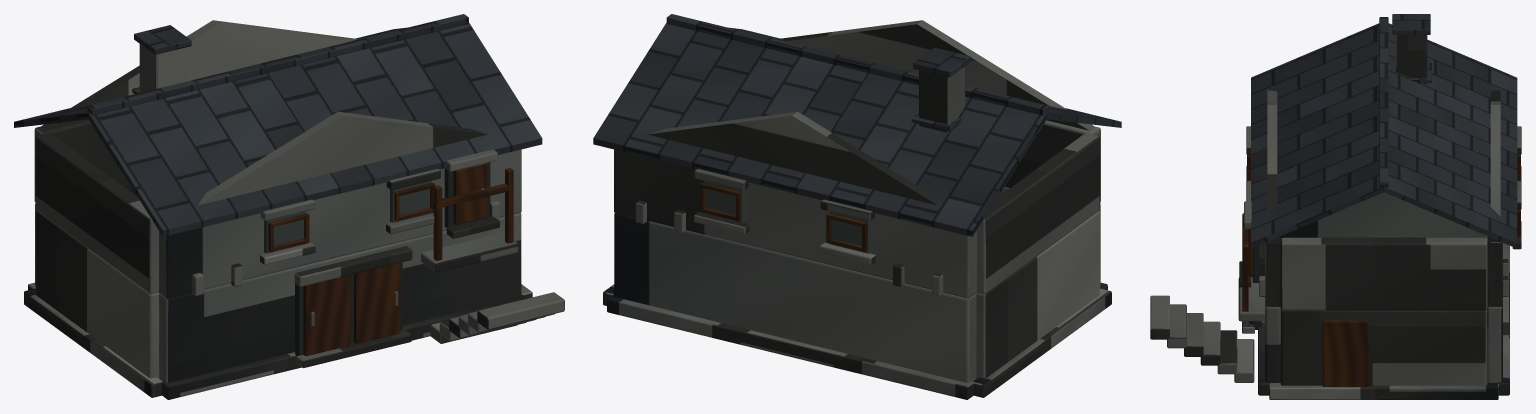
Rendered from barrosan_house_gold_02.glb.
3 renders of one model, left to right at view 1: azimuth 30°, elevation 25°; view 2: azimuth 150°, elevation 25°; view 3: azimuth 270°, elevation 25°, orthographic. The views are drawn at different scales.
Parts seen in each view (by area): view 1: LOD0_Granite, LOD0_Weathered_Slate, LOD1_Weathered_Slate, LOD0_Weathered_Timber, LOD0_Damp_Foundation, LOD1_Granite, LOD0_Recessed_Window, LOD0_Interior_Recess, LOD1_Weathered_Timber; view 2: LOD0_Granite, LOD0_Weathered_Slate, LOD1_Weathered_Slate, LOD1_Granite, LOD0_Damp_Foundation, LOD0_Recessed_Window, LOD0_Weathered_Timber, LOD1_Damp_Foundation; view 3: LOD0_Granite, LOD0_Weathered_Slate, LOD1_Weathered_Slate, LOD0_Damp_Foundation, LOD0_Weathered_Timber, LOD1_Granite, LOD0_Interior_Recess.
Boxes of the visible parts, x1,y1,x2,y2 form: LOD0_Granite: (34, 20, 564, 382); LOD0_Weathered_Slate: (14, 14, 542, 236); LOD1_Weathered_Slate: (14, 17, 542, 236); LOD0_Weathered_Timber: (268, 163, 513, 355); LOD0_Damp_Foundation: (24, 282, 532, 399); LOD1_Granite: (34, 20, 564, 382); LOD0_Recessed_Window: (264, 180, 431, 253); LOD0_Interior_Recess: (295, 162, 490, 355); LOD1_Weathered_Timber: (268, 164, 513, 355); LOD0_Granite: (614, 20, 1100, 382); LOD0_Weathered_Slate: (593, 14, 1121, 236); LOD1_Weathered_Slate: (593, 14, 1121, 236); LOD1_Granite: (614, 20, 1100, 382); LOD0_Damp_Foundation: (603, 282, 1111, 399); LOD0_Recessed_Window: (704, 180, 871, 253); LOD0_Weathered_Timber: (700, 182, 867, 252); LOD1_Damp_Foundation: (603, 286, 1111, 399); LOD0_Granite: (1150, 35, 1521, 385); LOD0_Weathered_Slate: (1251, 14, 1517, 248); LOD1_Weathered_Slate: (1251, 18, 1517, 247); LOD0_Damp_Foundation: (1258, 243, 1509, 399); LOD0_Weathered_Timber: (1242, 154, 1520, 386); LOD1_Granite: (1150, 35, 1521, 385); LOD0_Interior_Recess: (1252, 244, 1261, 329).
Size of what is drawn, in the model's own units: 10.3 by 7.26 by 9.71.
Materials: 7 (4 with a texture image).
